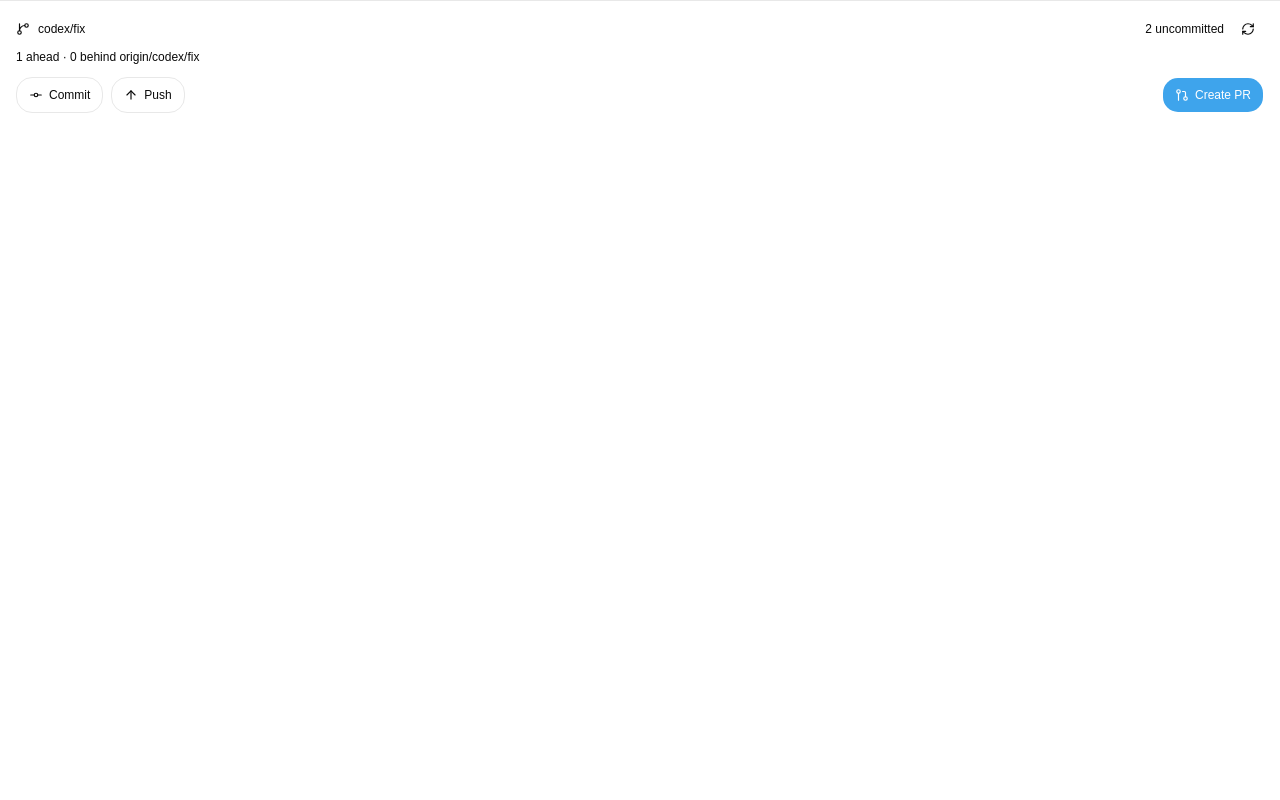
Test: Git review and publication › commit waits for an explicit review submit and sends only selected files with the reviewed head
Click the button "Commit": (60, 95) x1=16 y1=77 x2=103 y2=113
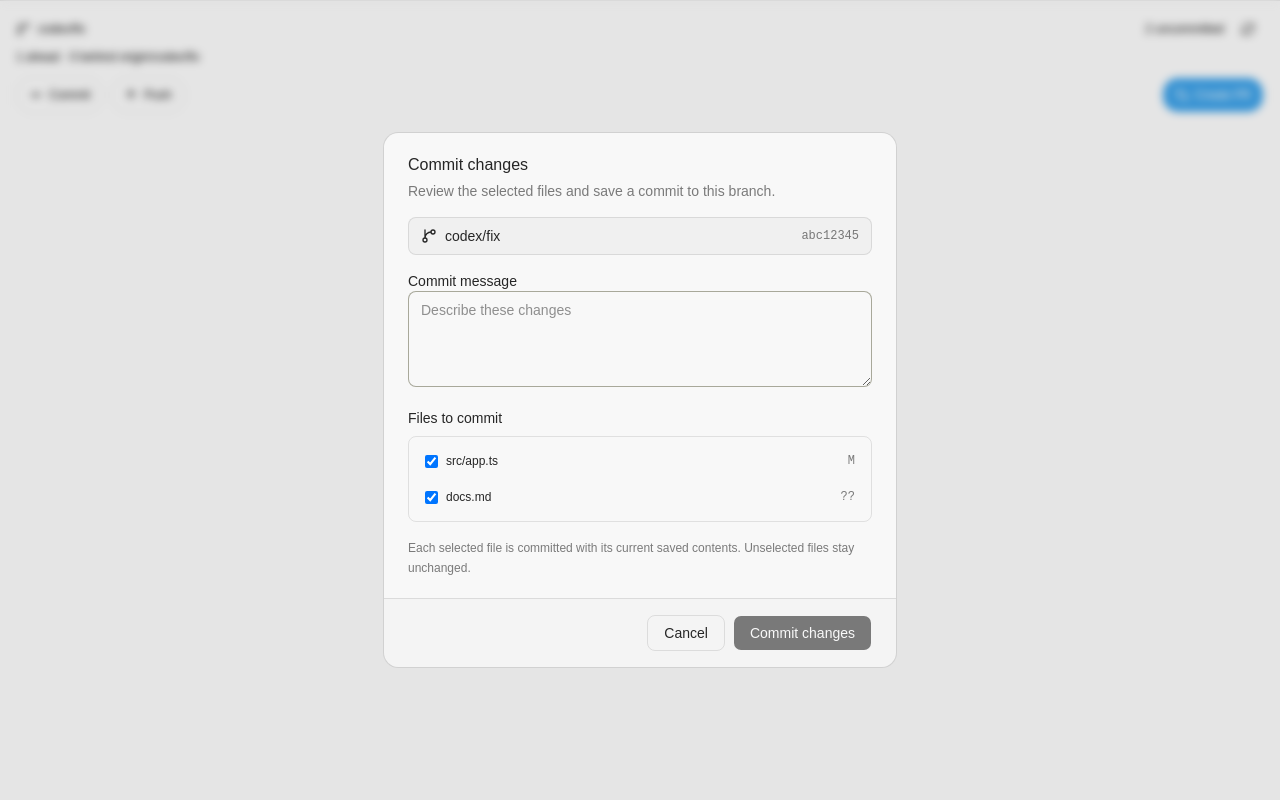
Now the button "Commit changes" is disabled, box x1=733 y1=615 x2=872 y2=651
In the text box labelled "Commit message": (640, 339) x1=408 y1=291 x2=872 y2=387, type "Fix app"
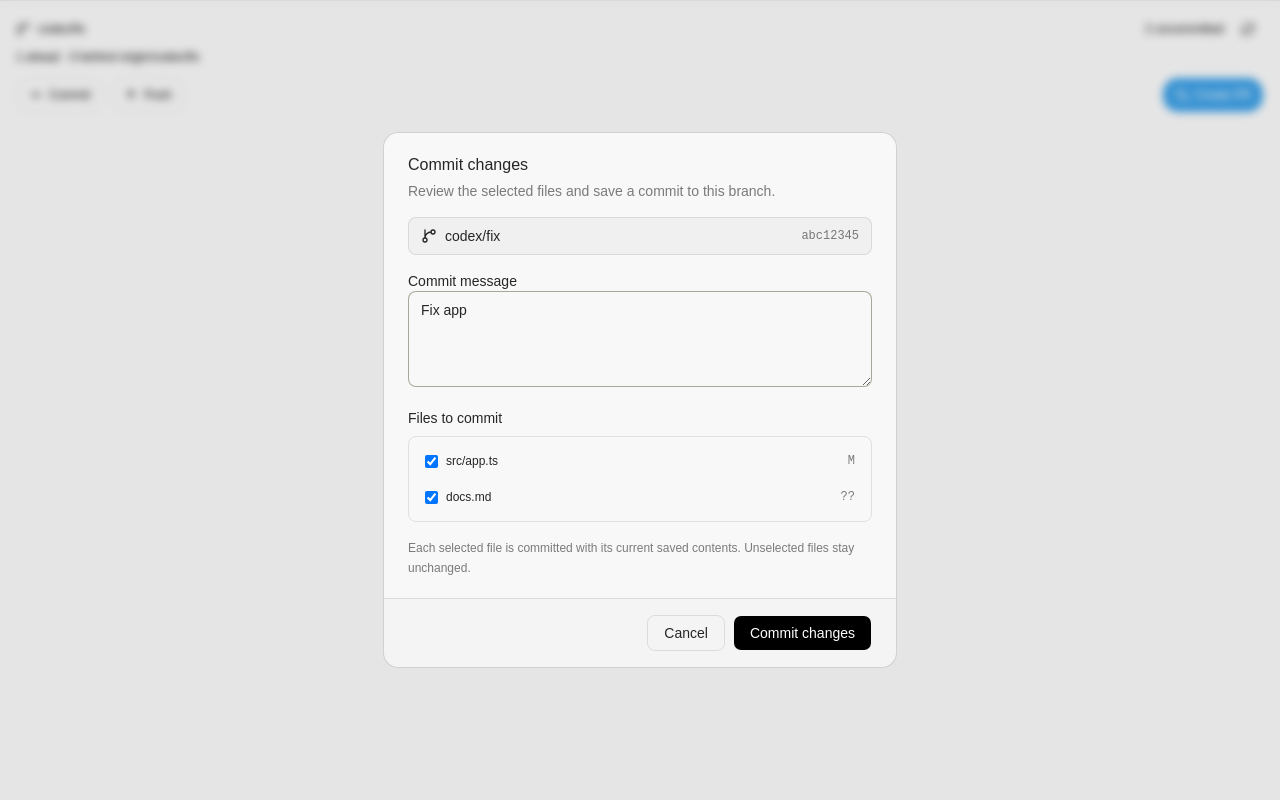
Click the checkbox labelled "docs.md ??": (432, 497) x1=425 y1=490 x2=438 y2=504
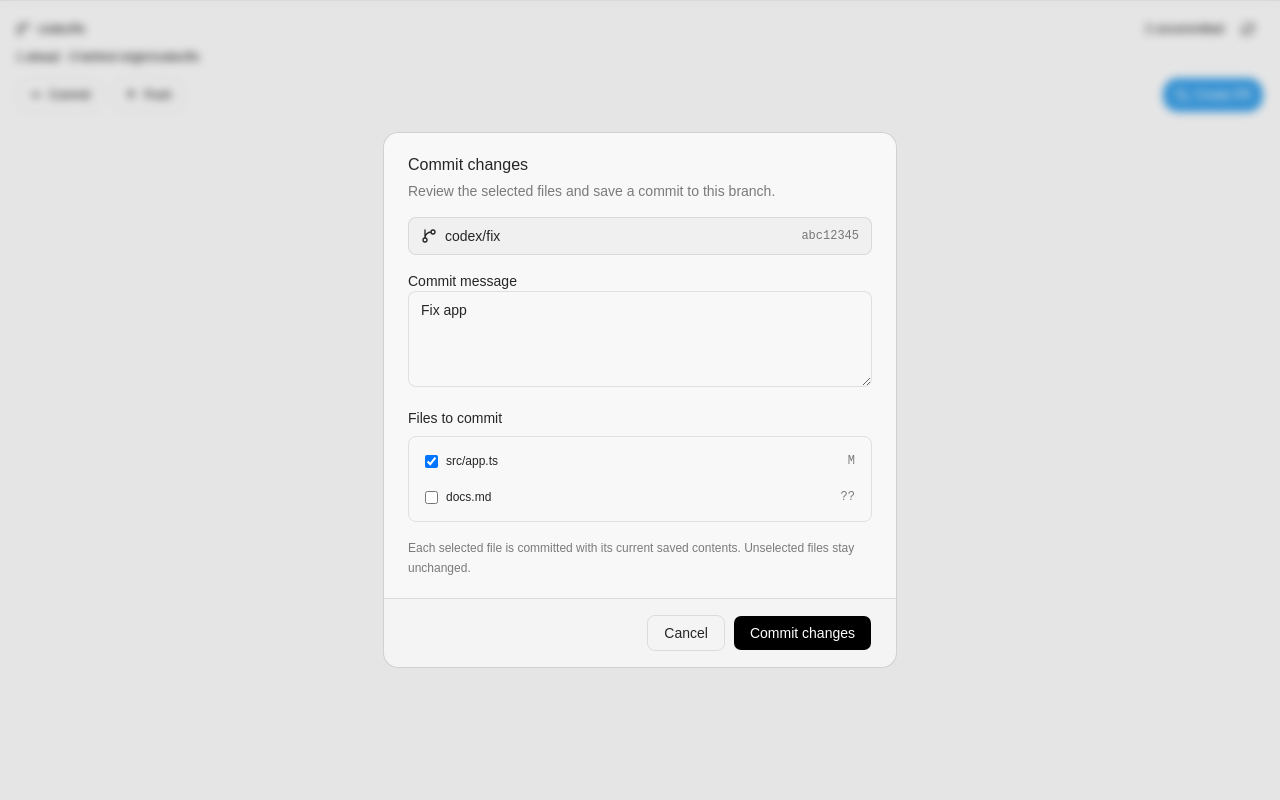
Click the button "Commit changes": (802, 633) x1=733 y1=615 x2=872 y2=651
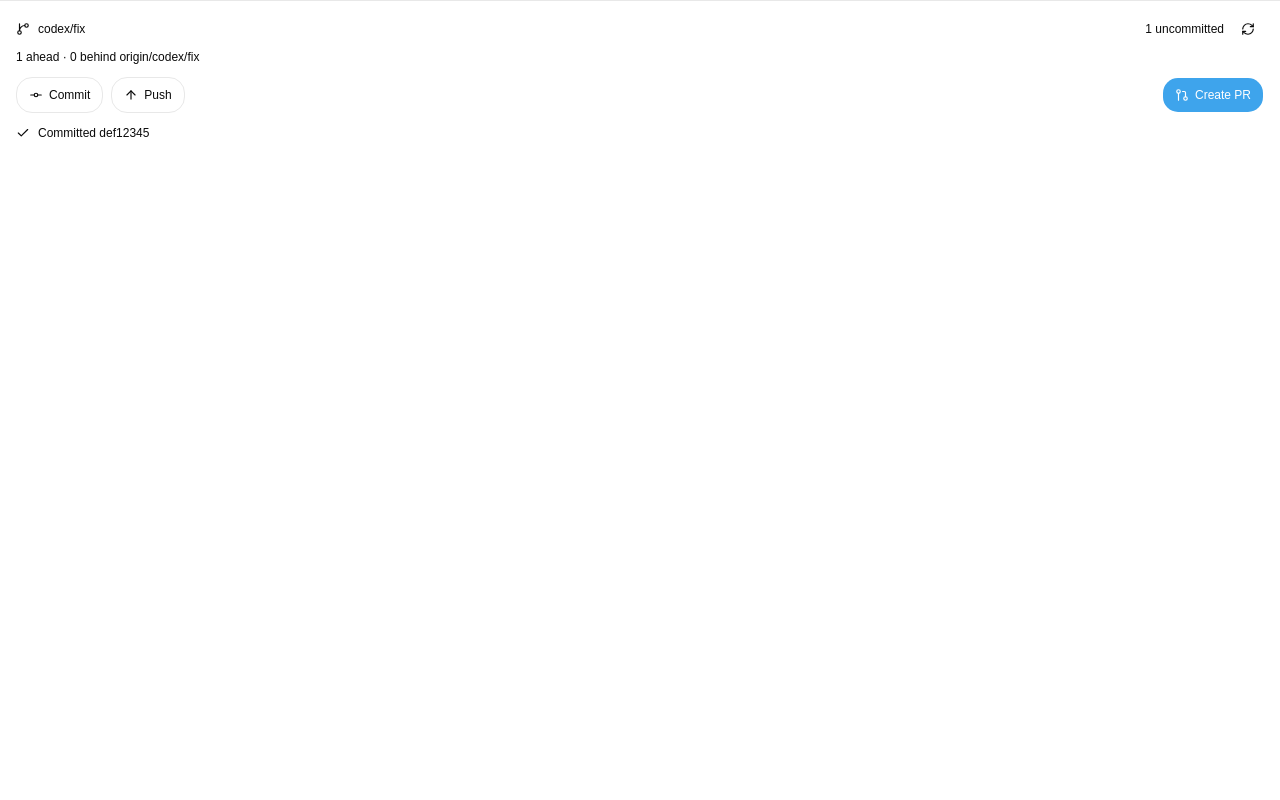
Now the text "Committed def12345" is shown, box x1=16 y1=126 x2=149 y2=140
